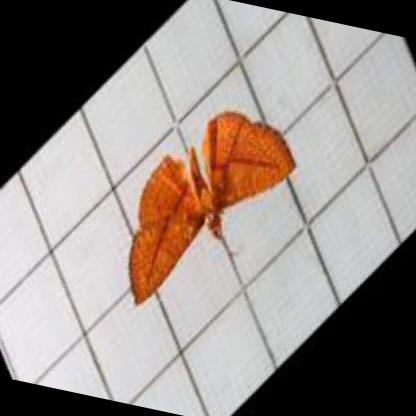Leaf Webber: (127, 114, 295, 306)
